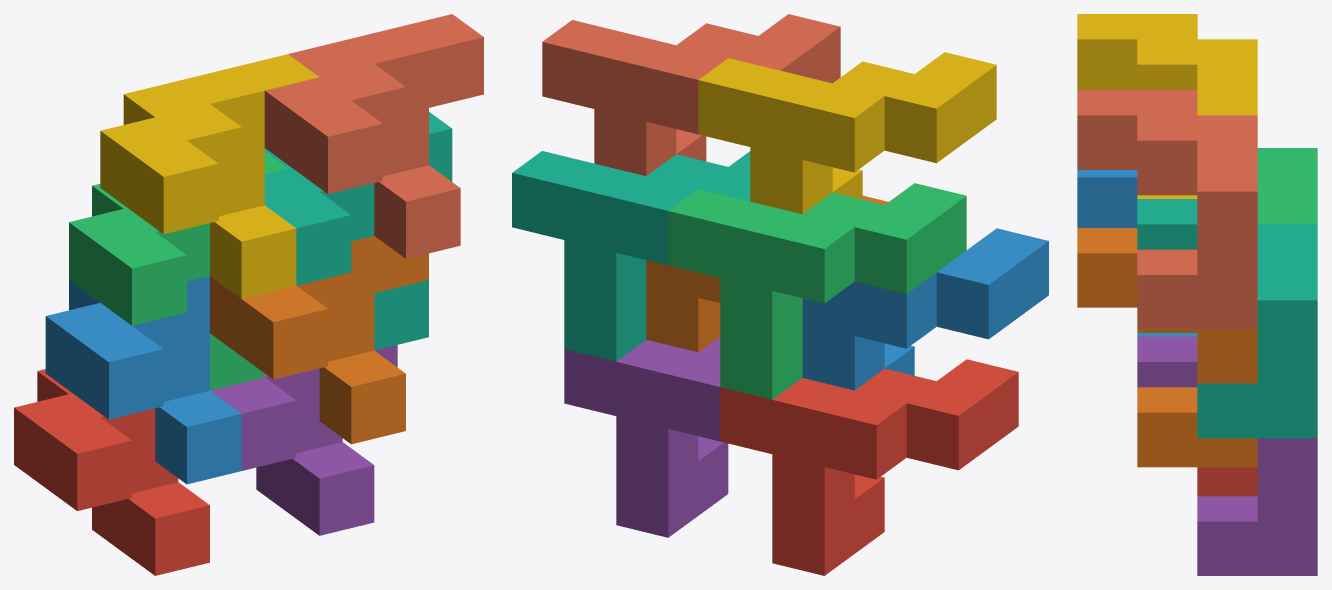
Rendered from tiling.obj.
The picture shows the model from 3 angles, left to right: view 1: azimuth 30°, elevation 25°; view 2: azimuth 150°, elevation 25°; view 3: azimuth 270°, elevation 25°; orthographic projection. The views are drawn at different scales.
Visible parts, largest first — view 1: copy_1_domain_8, copy_1_domain_4, copy_1_domain_2, copy_1_domain_6, copy_1_domain_1, copy_1_domain_5, copy_1_domain_3, copy_1_domain_7; view 2: copy_1_domain_1, copy_1_domain_3, copy_1_domain_4, copy_1_domain_7, copy_1_domain_8, copy_1_domain_5, copy_1_domain_2, copy_1_domain_6; view 3: copy_1_domain_8, copy_1_domain_7, copy_1_domain_5, copy_1_domain_6, copy_1_domain_4, copy_1_domain_3, copy_1_domain_2, copy_1_domain_1.
Boxes of the visible parts, box(x1,y1,x2,y2) form: copy_1_domain_8: box(264, 14, 483, 258); copy_1_domain_4: box(100, 54, 318, 298); copy_1_domain_2: box(45, 276, 241, 484); copy_1_domain_6: box(210, 236, 428, 444); copy_1_domain_1: box(14, 369, 209, 575); copy_1_domain_5: box(210, 345, 397, 535); copy_1_domain_3: box(69, 152, 287, 390); copy_1_domain_7: box(264, 112, 452, 350); copy_1_domain_1: box(720, 359, 1018, 575); copy_1_domain_3: box(668, 183, 966, 399); copy_1_domain_4: box(698, 52, 996, 214); copy_1_domain_7: box(512, 151, 750, 361); copy_1_domain_8: box(542, 14, 840, 175); copy_1_domain_5: box(564, 336, 728, 537); copy_1_domain_2: box(802, 228, 1048, 390); copy_1_domain_6: box(646, 195, 888, 352); copy_1_domain_8: box(1077, 90, 1257, 329); copy_1_domain_7: box(1137, 199, 1317, 438); copy_1_domain_5: box(1137, 336, 1317, 575); copy_1_domain_6: box(1077, 228, 1257, 467); copy_1_domain_4: box(1077, 14, 1257, 198); copy_1_domain_3: box(1257, 148, 1317, 224); copy_1_domain_2: box(1077, 170, 1197, 336); copy_1_domain_1: box(1197, 467, 1257, 496).
Bounding box in the file's own units: 8 × 8 × 4.
